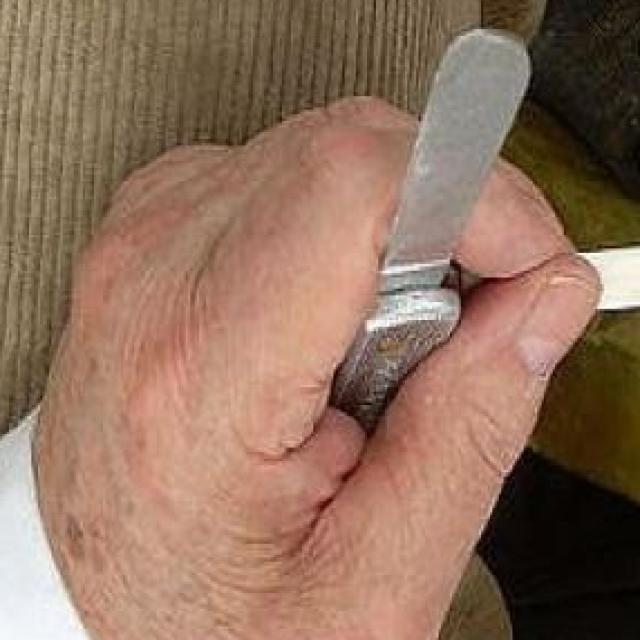knife: (284, 32, 552, 452)
